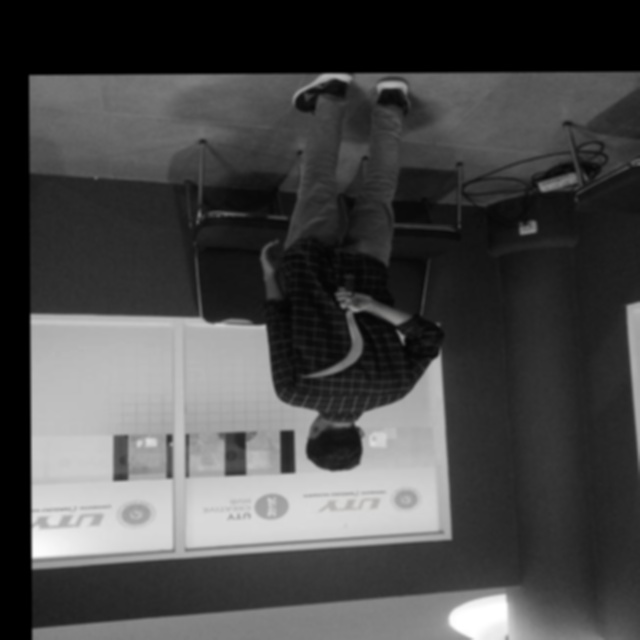Sharp-Object: (297, 283, 378, 391)
